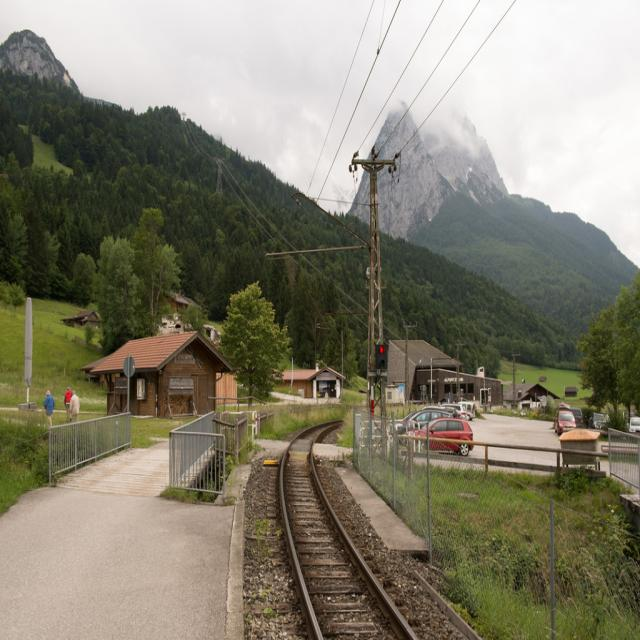car: (403, 415, 471, 455), (553, 410, 573, 431)
